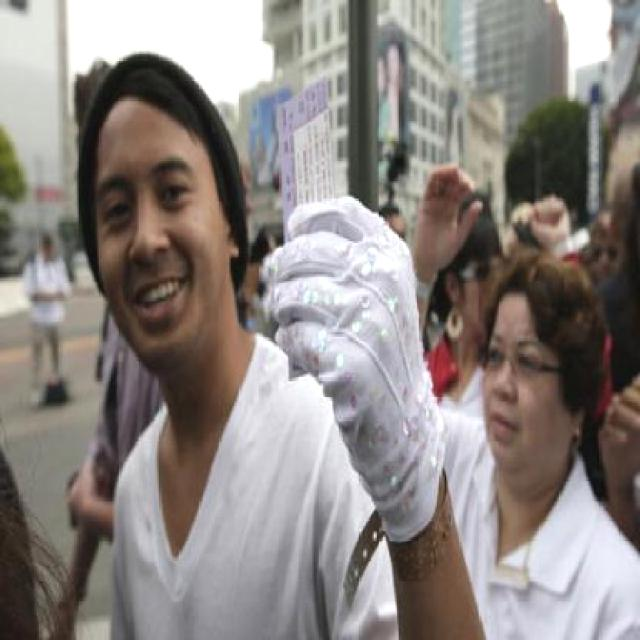face_nomask: (92, 152, 228, 356), (468, 315, 580, 454)
glasses: (474, 334, 546, 386)
hand_glove: (264, 192, 433, 510)
hand_noglove: (415, 162, 488, 272), (534, 192, 575, 246)
head_nohelmet: (69, 44, 222, 148), (468, 266, 612, 332)
person: (63, 35, 406, 640), (420, 247, 629, 640)
